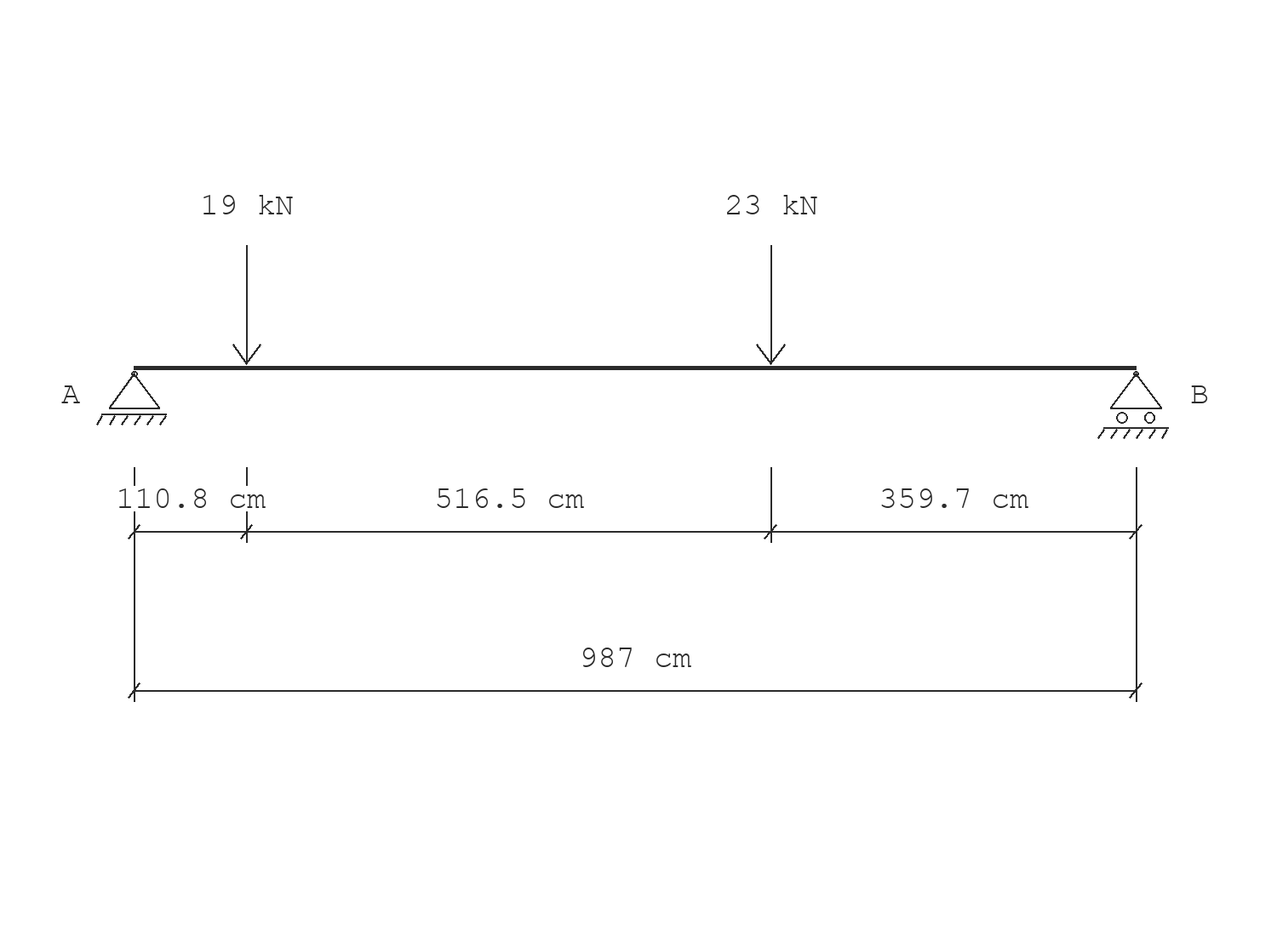pin_support: (96, 371, 167, 425)
point_load: (756, 245, 786, 365), (232, 245, 261, 365)
roller_support: (1097, 371, 1169, 439)
